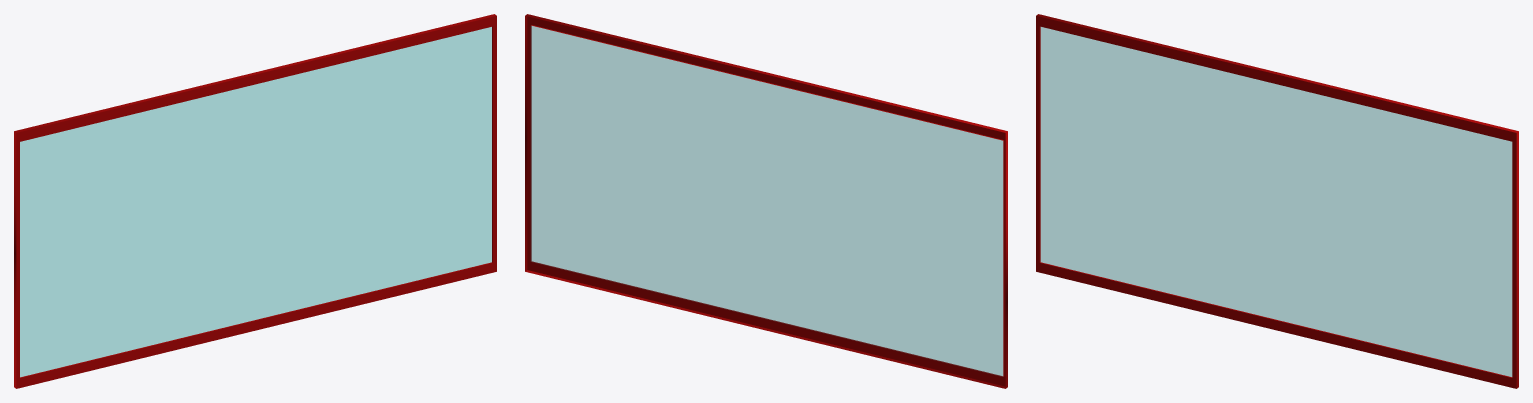
The model's file is Window_Short.fbx.
3 views of the same model, side by side, from view 1: azimuth 30°, elevation 25°; view 2: azimuth 150°, elevation 25°; view 3: azimuth 330°, elevation 25° (orthographic).
Visible parts, largest first — view 1: polySurface10; view 2: polySurface10; view 3: polySurface10.
Boxes of the visible parts, x1,y1,x2,y2 form: polySurface10: [14, 14, 496, 388]; polySurface10: [525, 14, 1007, 388]; polySurface10: [1036, 14, 1518, 388].
Bounding box in the file's own units: 3.21 × 1.64 × 0.027.
